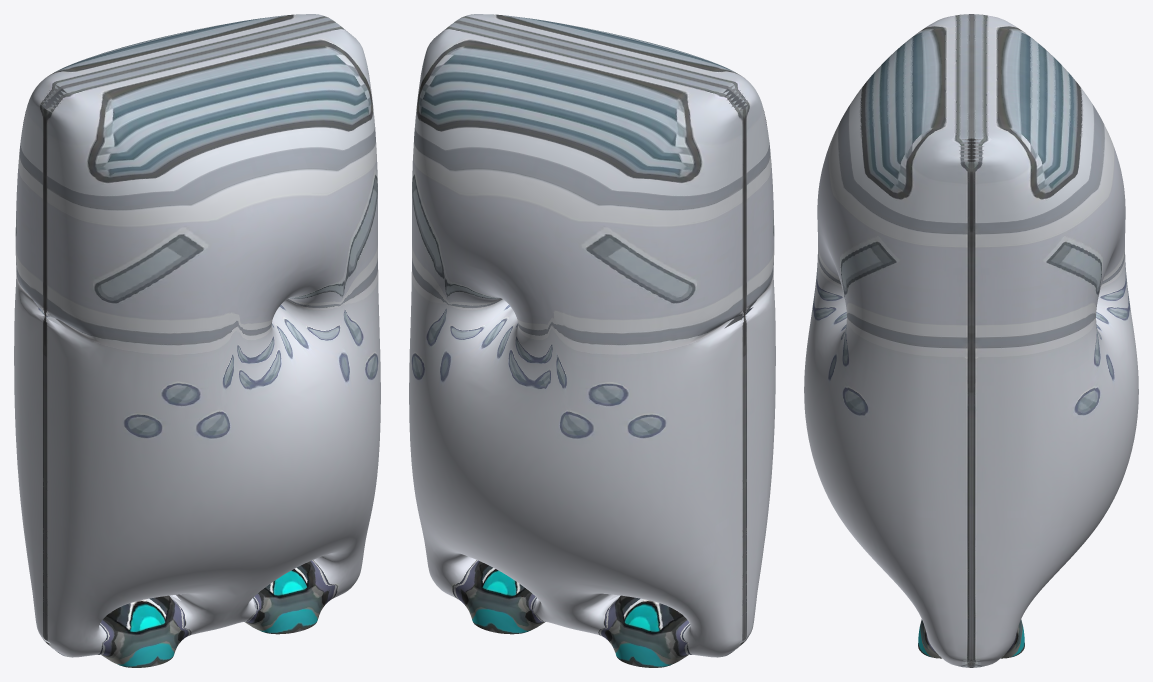
The model's file is rear_wall_center.glb.
3 renders of one model, left to right at view 1: azimuth 30°, elevation 25°; view 2: azimuth 150°, elevation 25°; view 3: azimuth 270°, elevation 25°, orthographic. The views are drawn at different scales.
Visible parts, largest first — view 1: rear_wall_center; view 2: rear_wall_center; view 3: rear_wall_center.
Part boxes in pixels (<box>): rear_wall_center: <box>14,14,380,667</box>; rear_wall_center: <box>409,14,775,667</box>; rear_wall_center: <box>804,14,1138,667</box>.
Size of the model in its own units: 0.9817 by 1.76 by 0.9924.
Materials: 1 (1 with a texture image).
